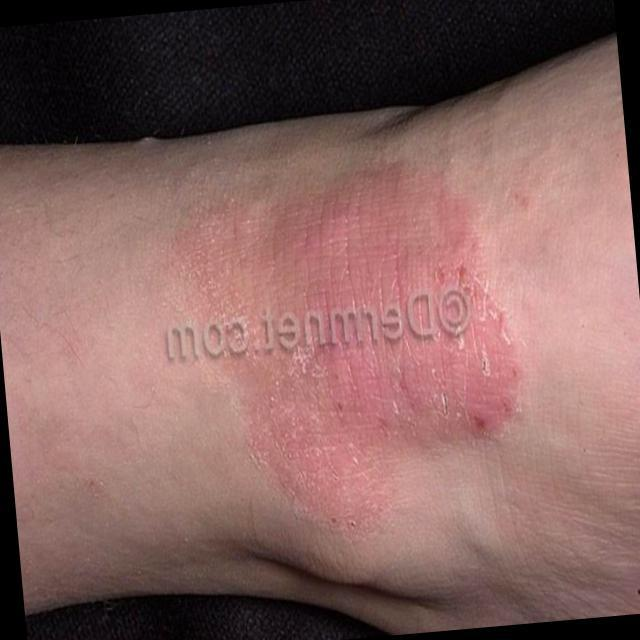Eczema: (166, 157, 531, 514)
